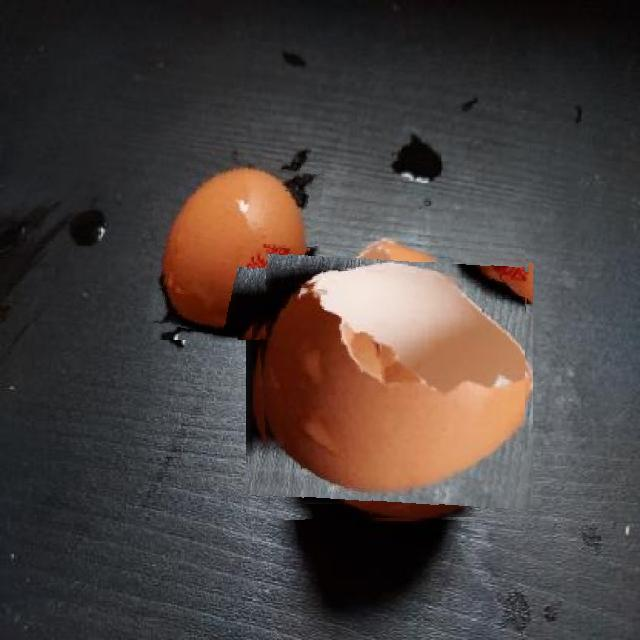biodegradable: (253, 248, 525, 520), (153, 155, 319, 340)
